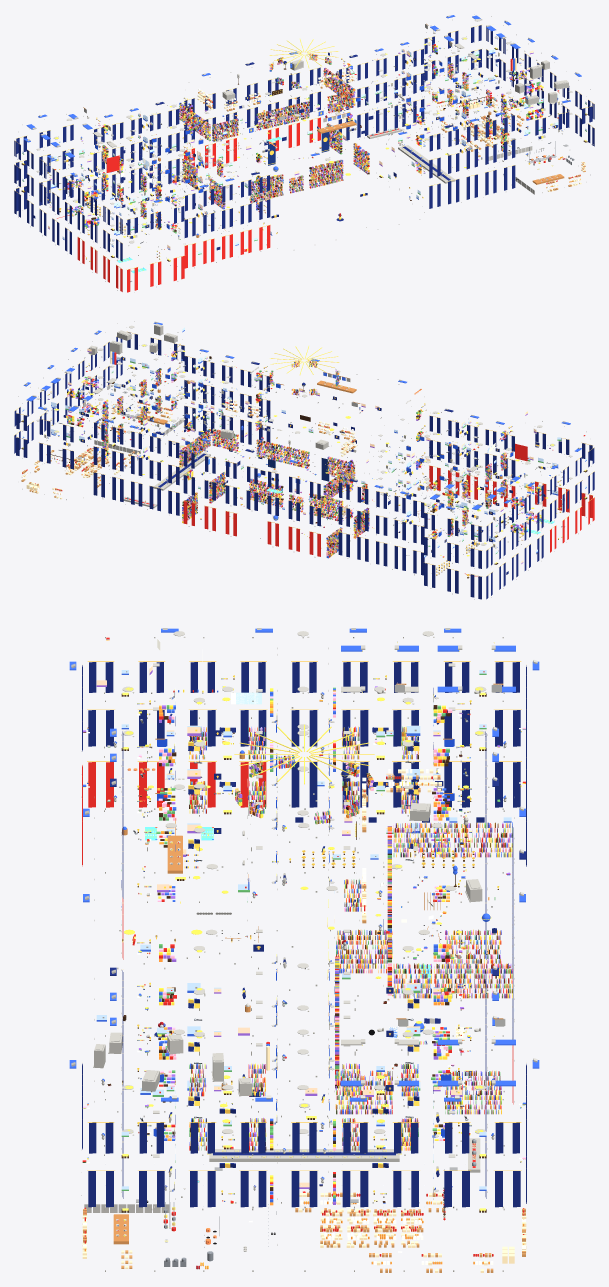
File: SM_ObeliskBoys_Interior_NoCol.fbx
3 renders of one model, top to bottom at view 1: azimuth 30°, elevation 25°; view 2: azimuth 150°, elevation 25°; view 3: azimuth 270°, elevation 25°, orthographic. The views are drawn at different scales.
Parts seen in each view (by area): view 1: SM_ObeliskBoys_Interior_NoCol; view 2: SM_ObeliskBoys_Interior_NoCol; view 3: SM_ObeliskBoys_Interior_NoCol.
Part boxes in pixels (x1,y1,x2,y2): SM_ObeliskBoys_Interior_NoCol: (14, 14, 594, 292); SM_ObeliskBoys_Interior_NoCol: (14, 321, 594, 599); SM_ObeliskBoys_Interior_NoCol: (69, 628, 539, 1272).
Size of the model in its own units: 82.9 by 23.74 by 34.9.
